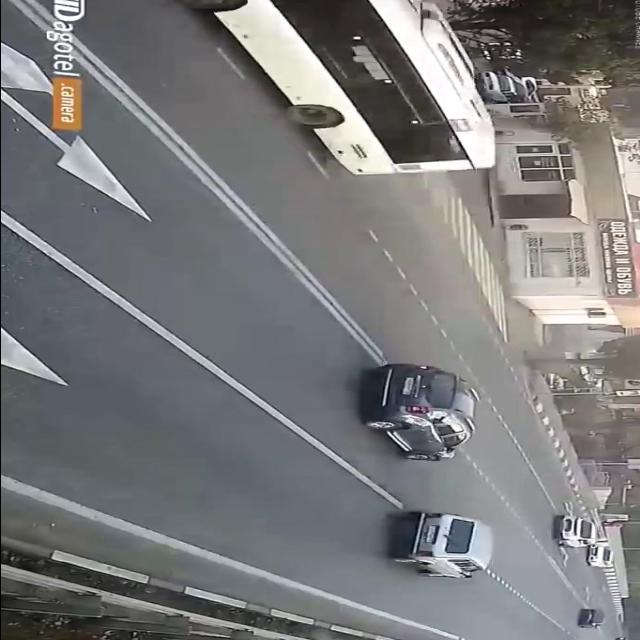non_accident: (345, 359, 503, 583), (543, 509, 617, 571)
